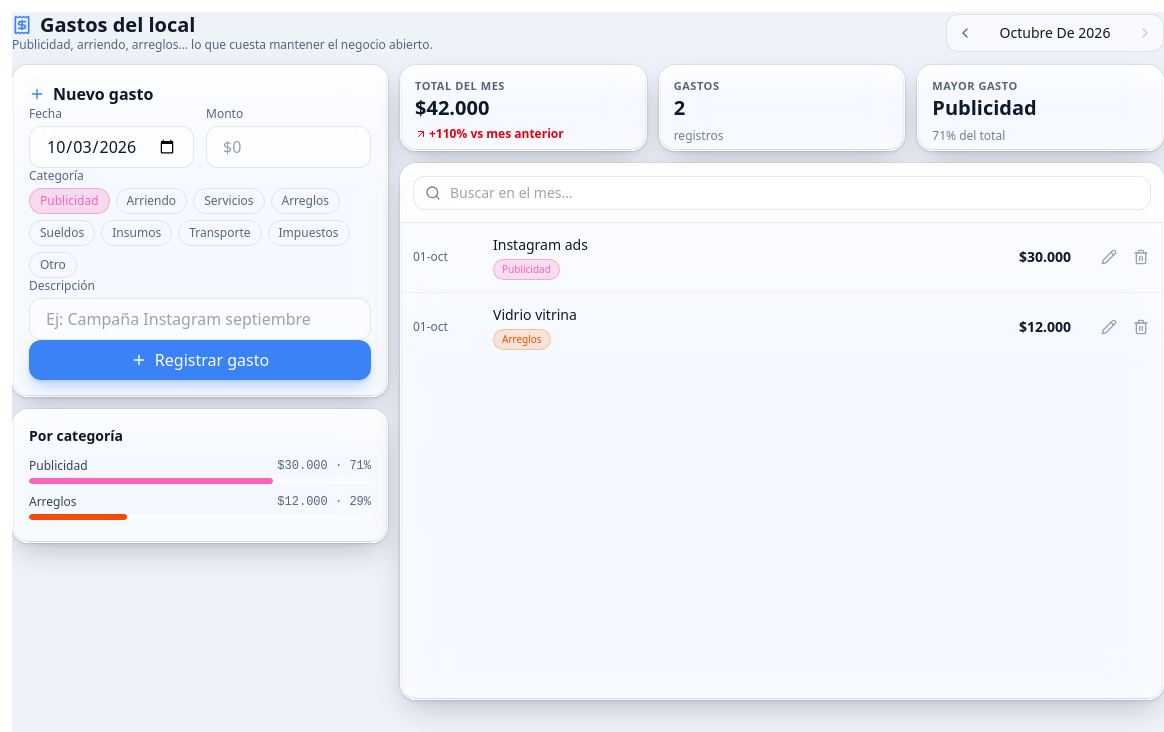
Test: Gastos › editar carga el formulario y actualiza el doc
The image size is (1164, 732).
Click the button named "Editar" in the row of "Vidrio vitrina" at (1109, 327), box [1095, 313, 1123, 341]
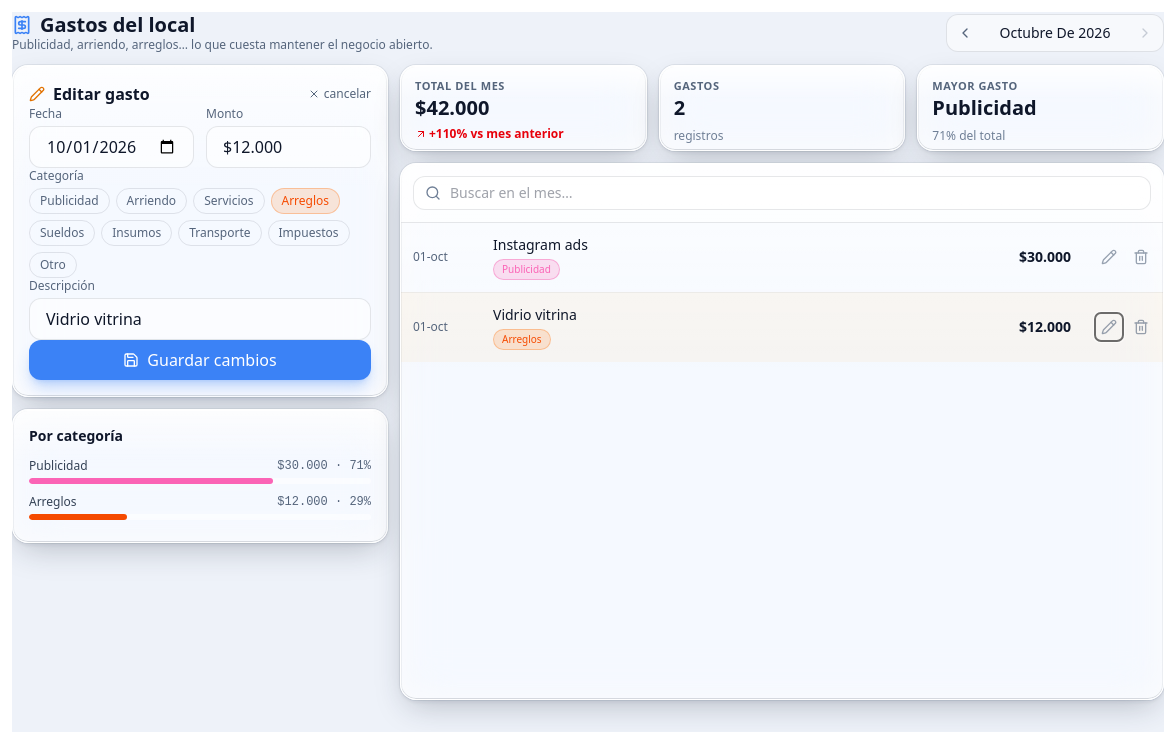
Now the heading "Editar gasto" is shown, box [29, 82, 150, 106]
Now the field with placeholder "$0" holds "$12.000"
Replace the text in the field with placeholder "$0" with "15000" at (288, 147), box [206, 126, 371, 168]
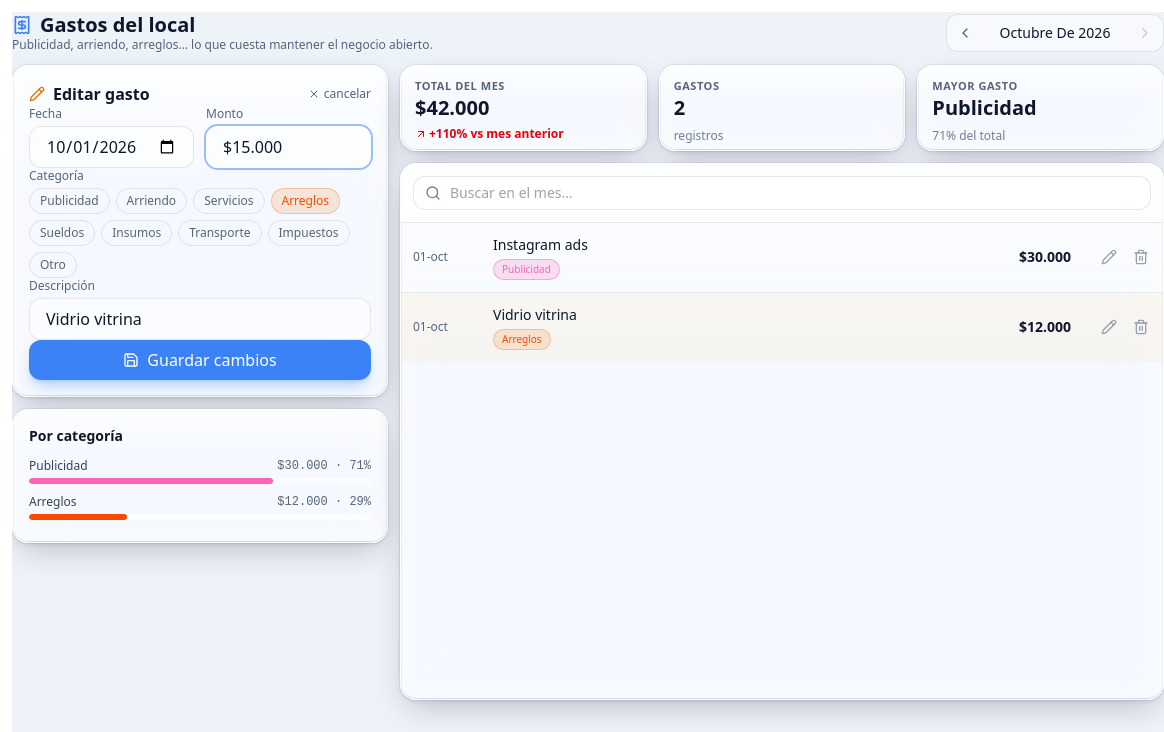
Click the button "Guardar cambios" at (200, 360), box [29, 340, 371, 380]
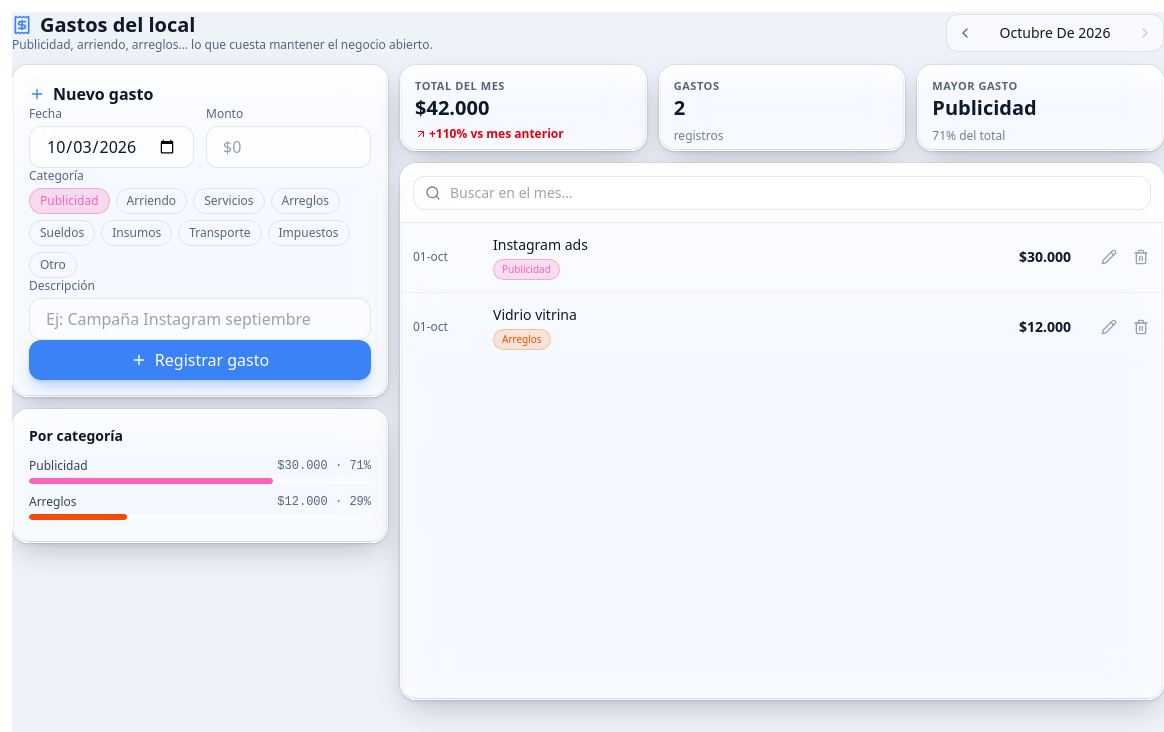
Now the heading "Nuevo gasto" is shown, box [29, 82, 153, 106]
